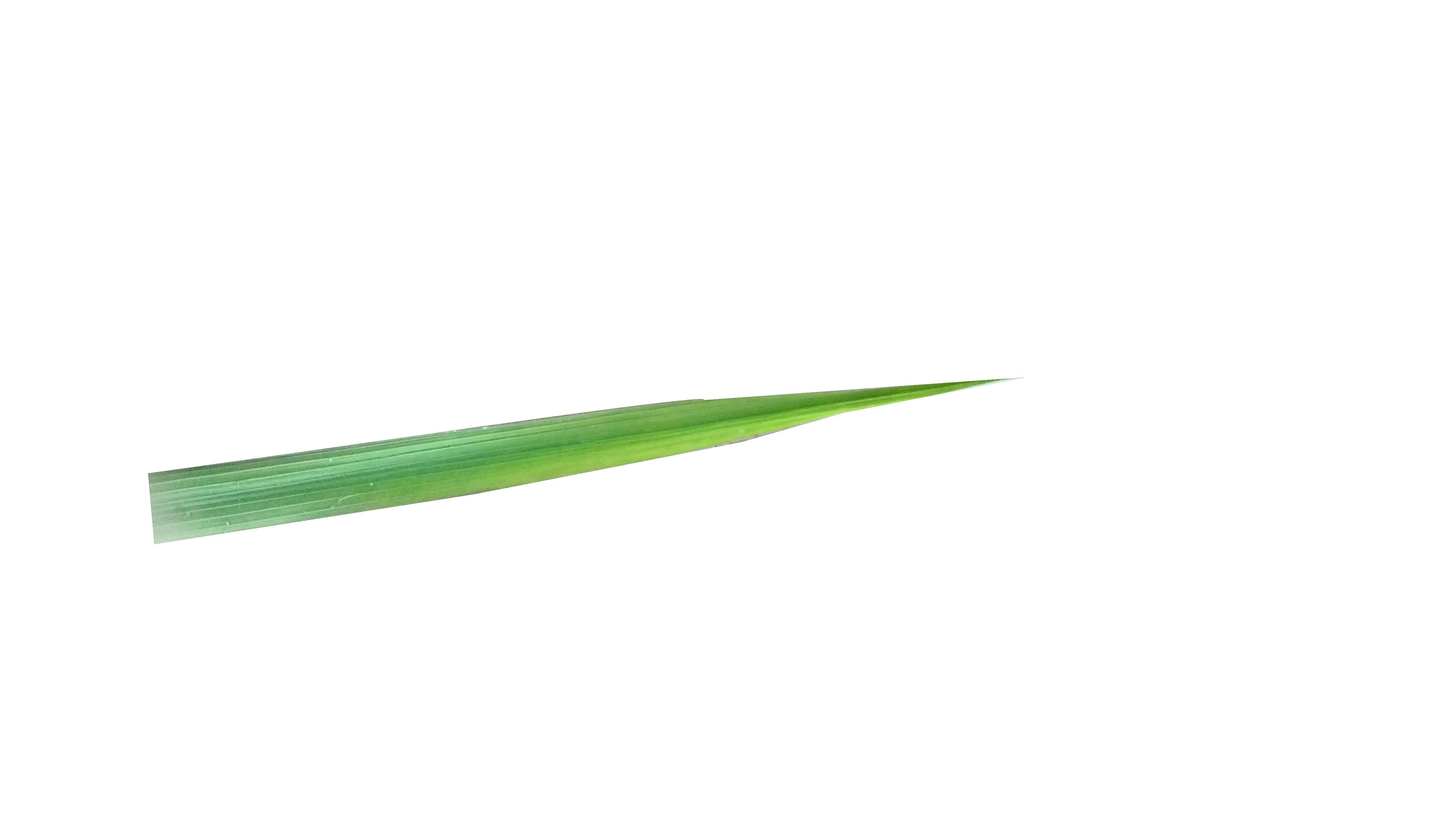Tungro: (396, 406, 822, 509)
